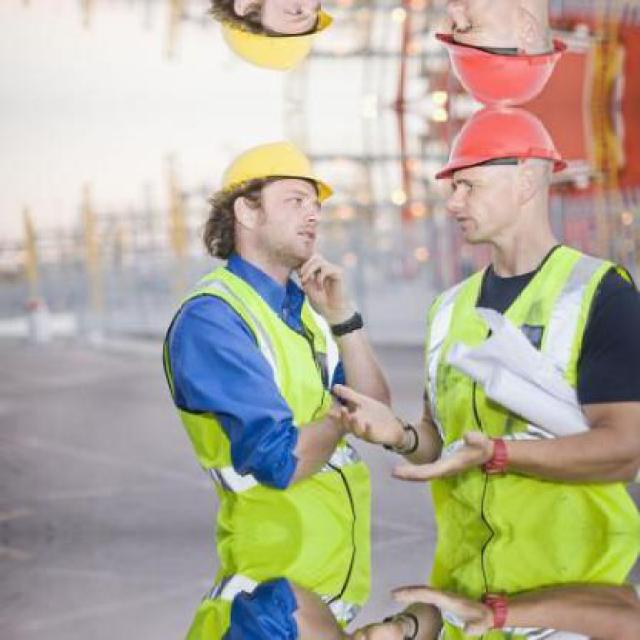helmet: (432, 106, 583, 256), (208, 136, 339, 267), (432, 0, 584, 106), (208, 0, 340, 77)
